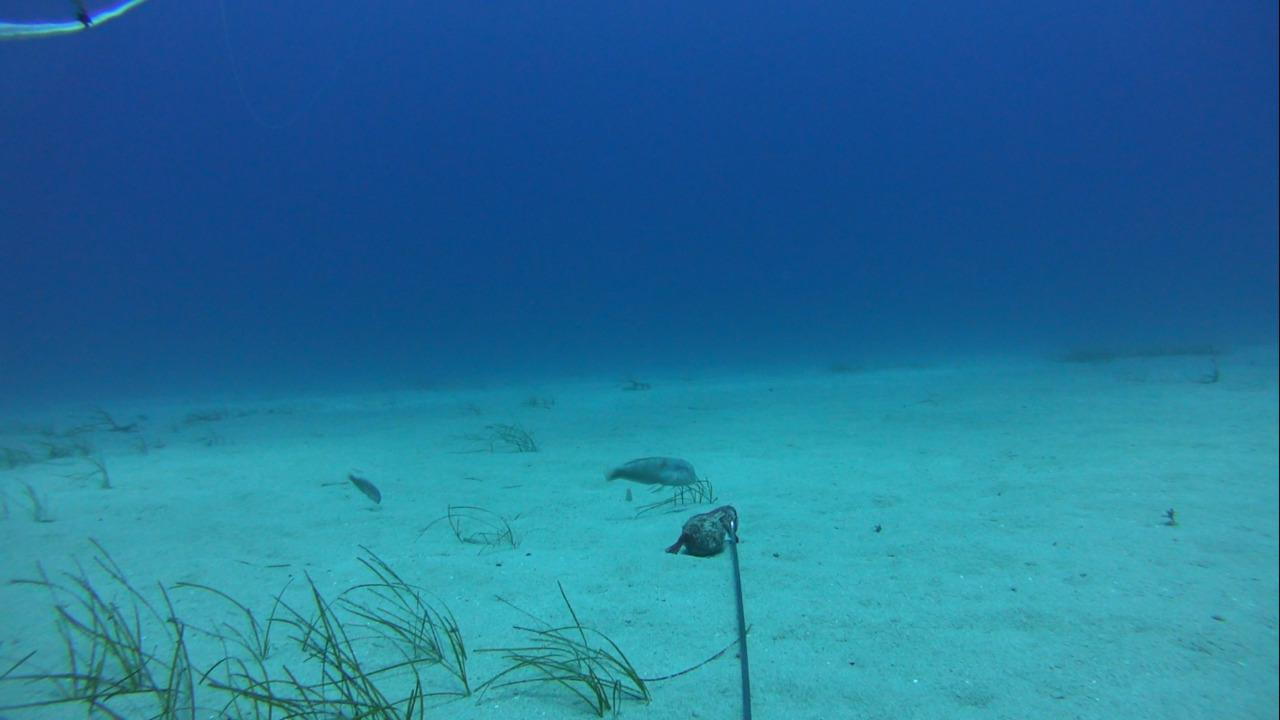raor: (595, 447, 706, 494), (341, 466, 381, 508)
